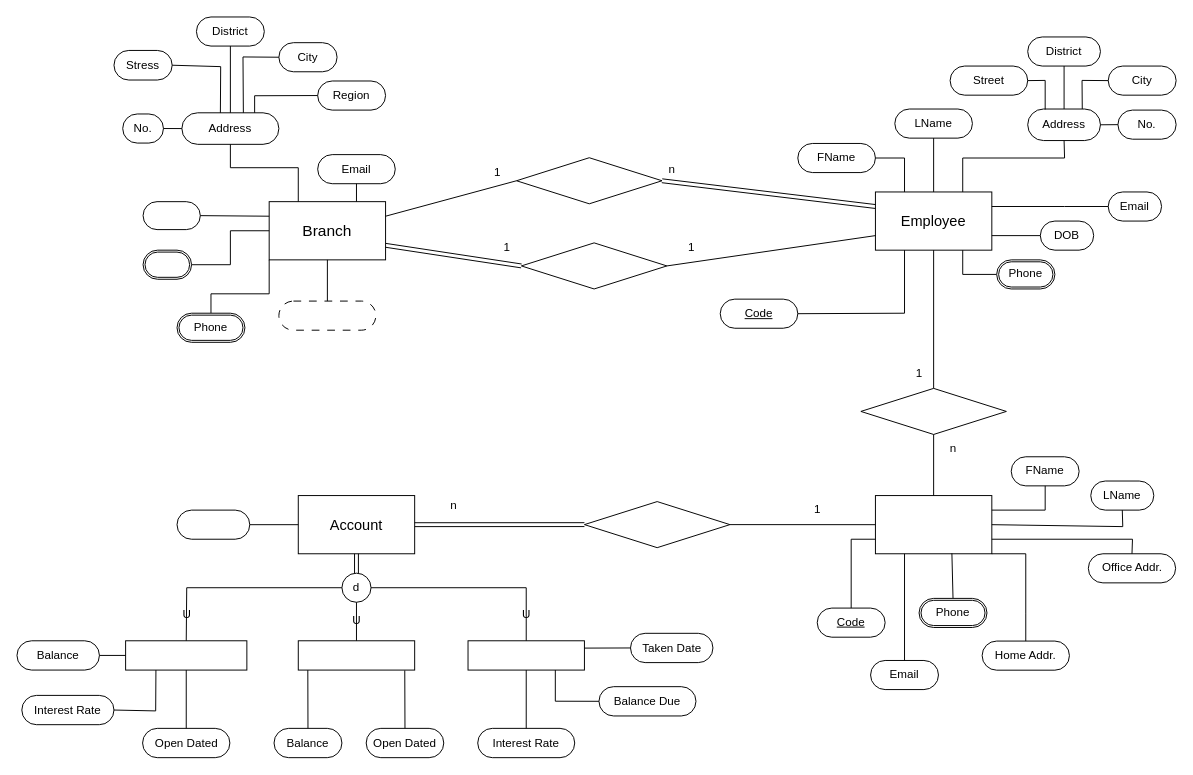
Some shapes in this 1193 by 775 pixel diagram are drawn without their labels. The shapes that lost their labels are listed below. From the top down, each one's box as (x1, y1, x2, y2) in pixels, then its label:
(516, 157, 662, 204): Work for
(142, 201, 200, 230): Name
(142, 249, 192, 279): Fax
(520, 242, 667, 289): Manage
(278, 300, 376, 330): Num. of Emp
(860, 387, 1006, 434): Server
(176, 509, 250, 539): Number
(583, 501, 730, 548): Has
(874, 495, 992, 554): Customer
(125, 640, 247, 670): Saving Account
(297, 640, 415, 670): Checking Account
(467, 640, 584, 670): Loan
